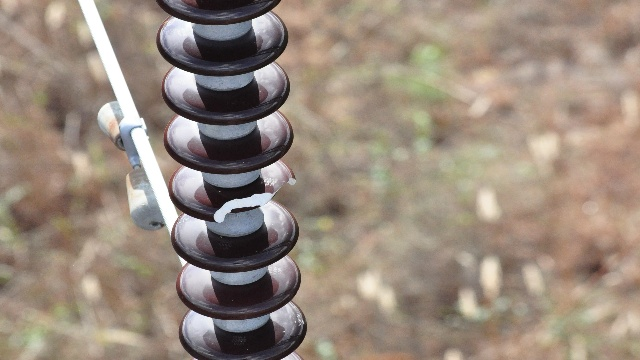broken_local: (213, 173, 298, 225)
insulator_unspecified: (154, 0, 309, 359)
